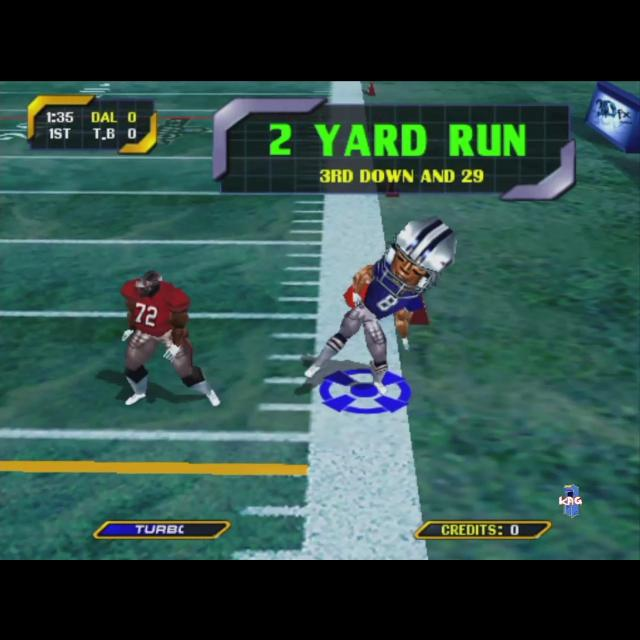player: (304, 217, 456, 396), (120, 269, 220, 406)
